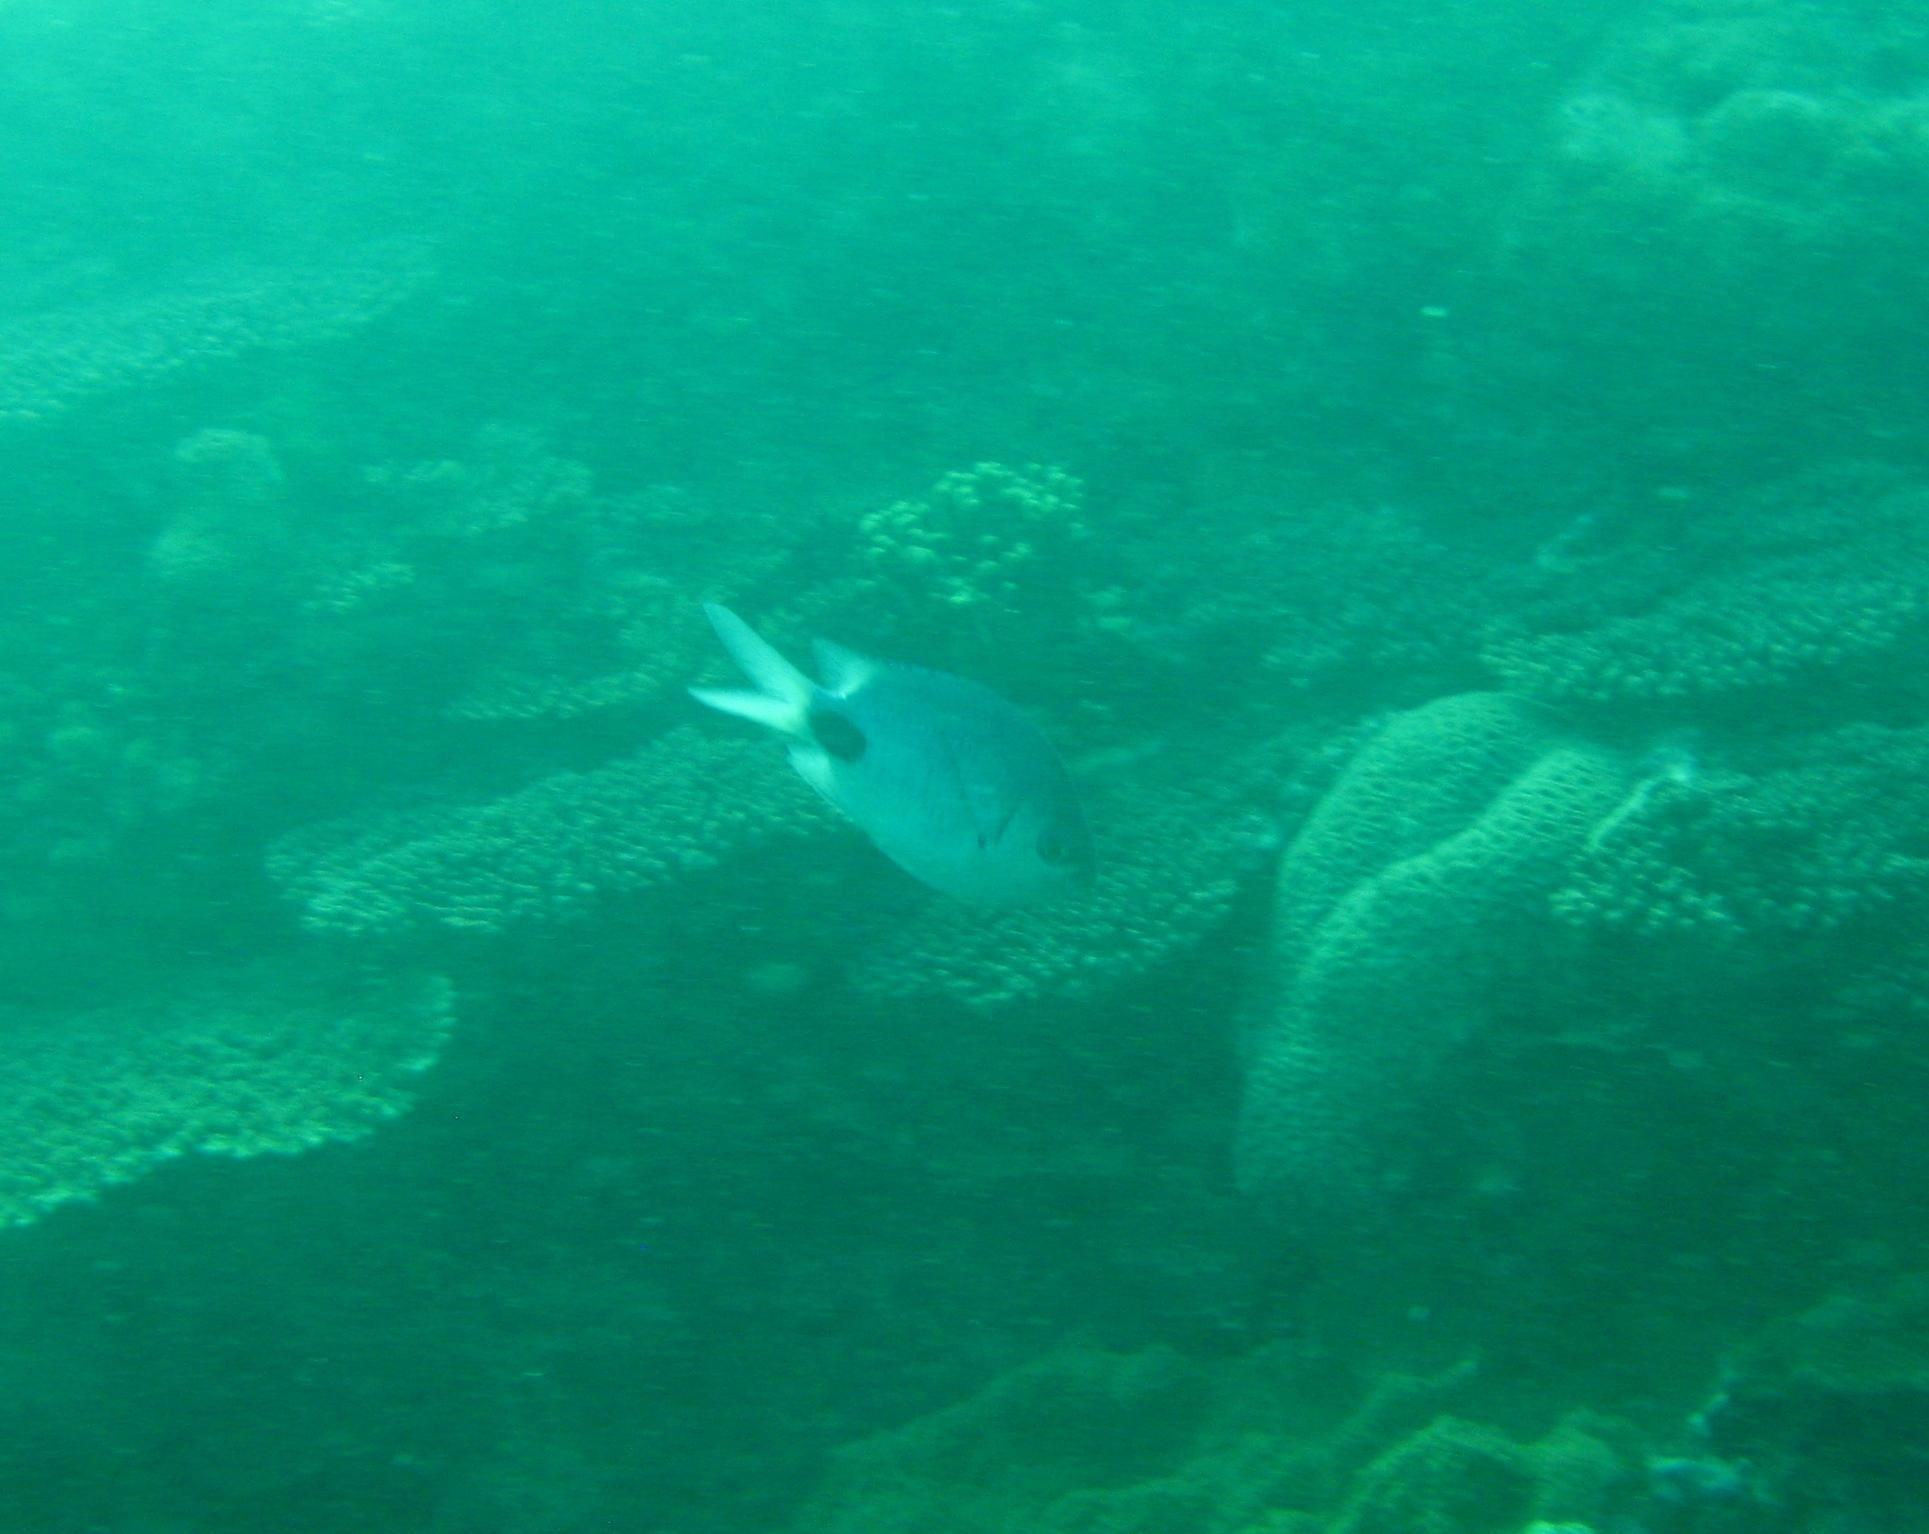Fish: (683, 560, 1163, 989)
